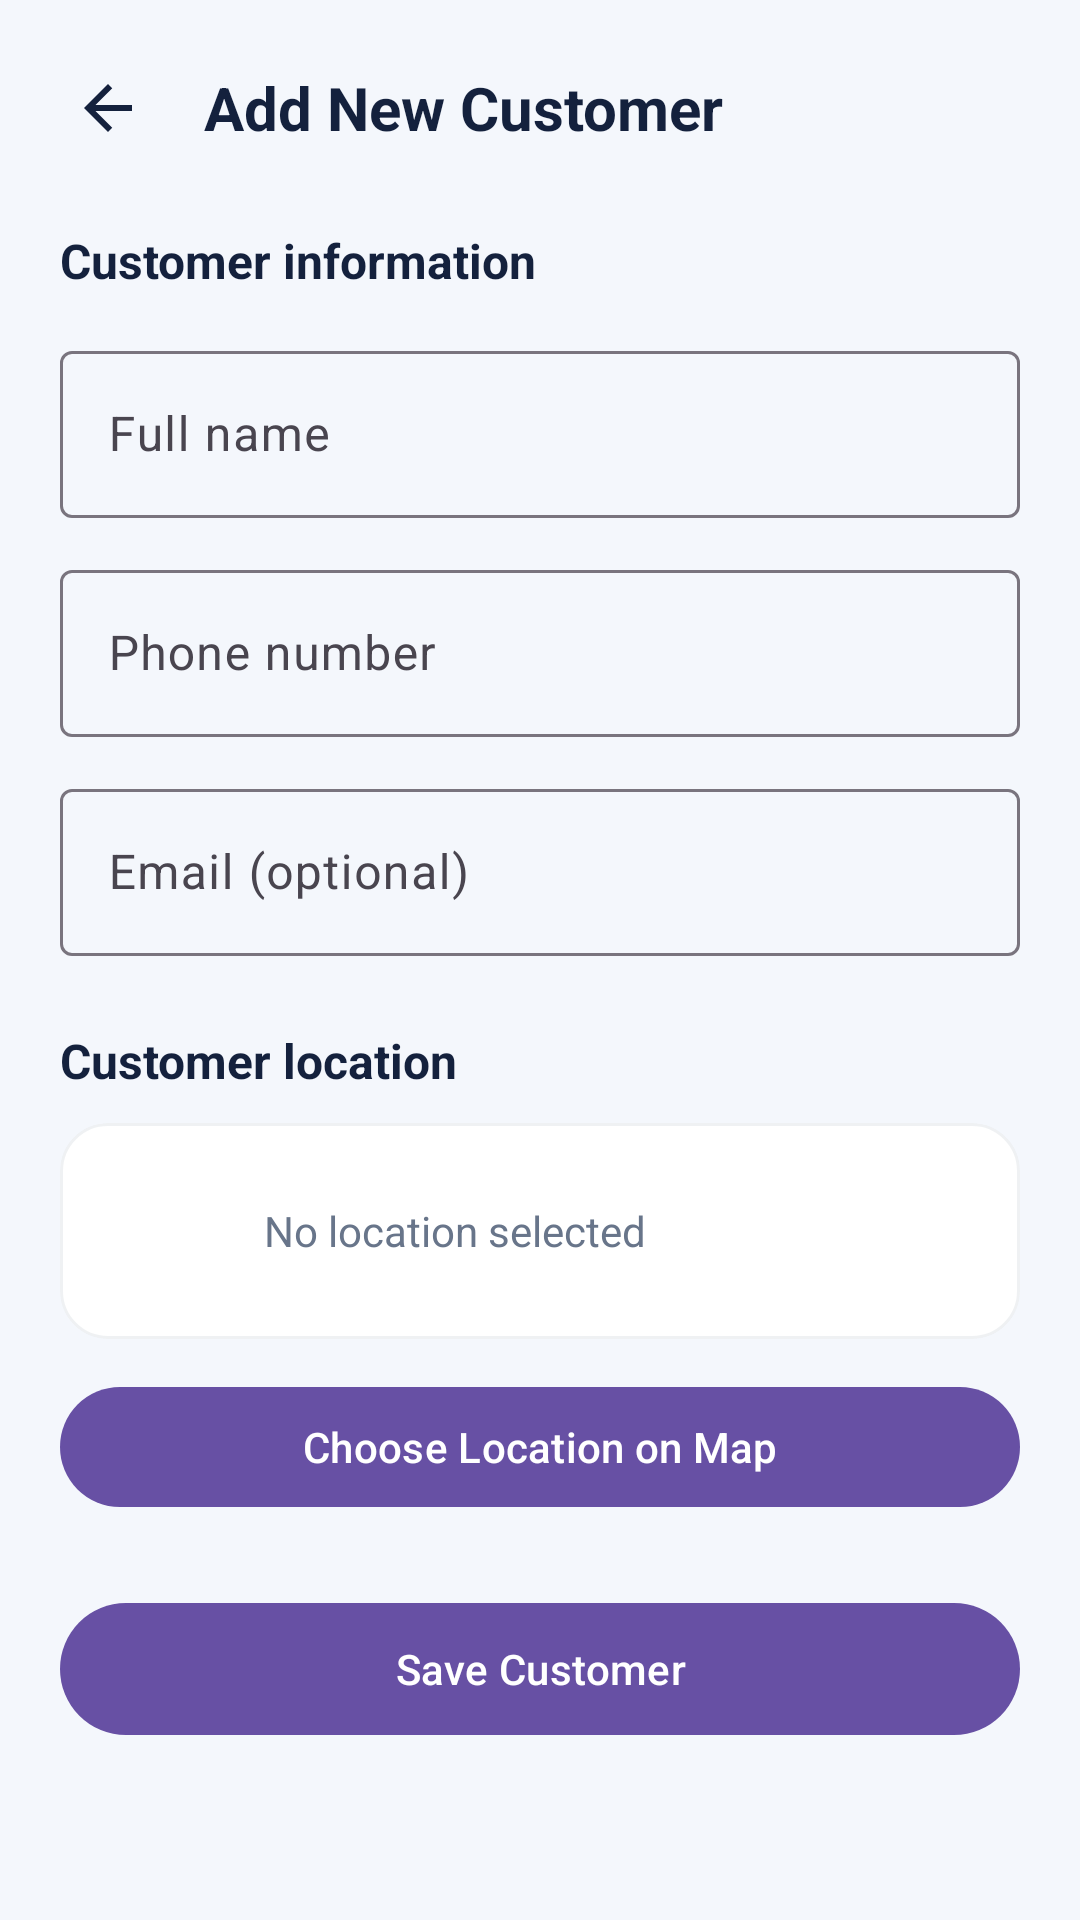

Screen size 1080 x 1920. Icon name, then its box in pixels as Rect(x1, y1, x2, y2):
Back: Rect(84, 84, 132, 132)
